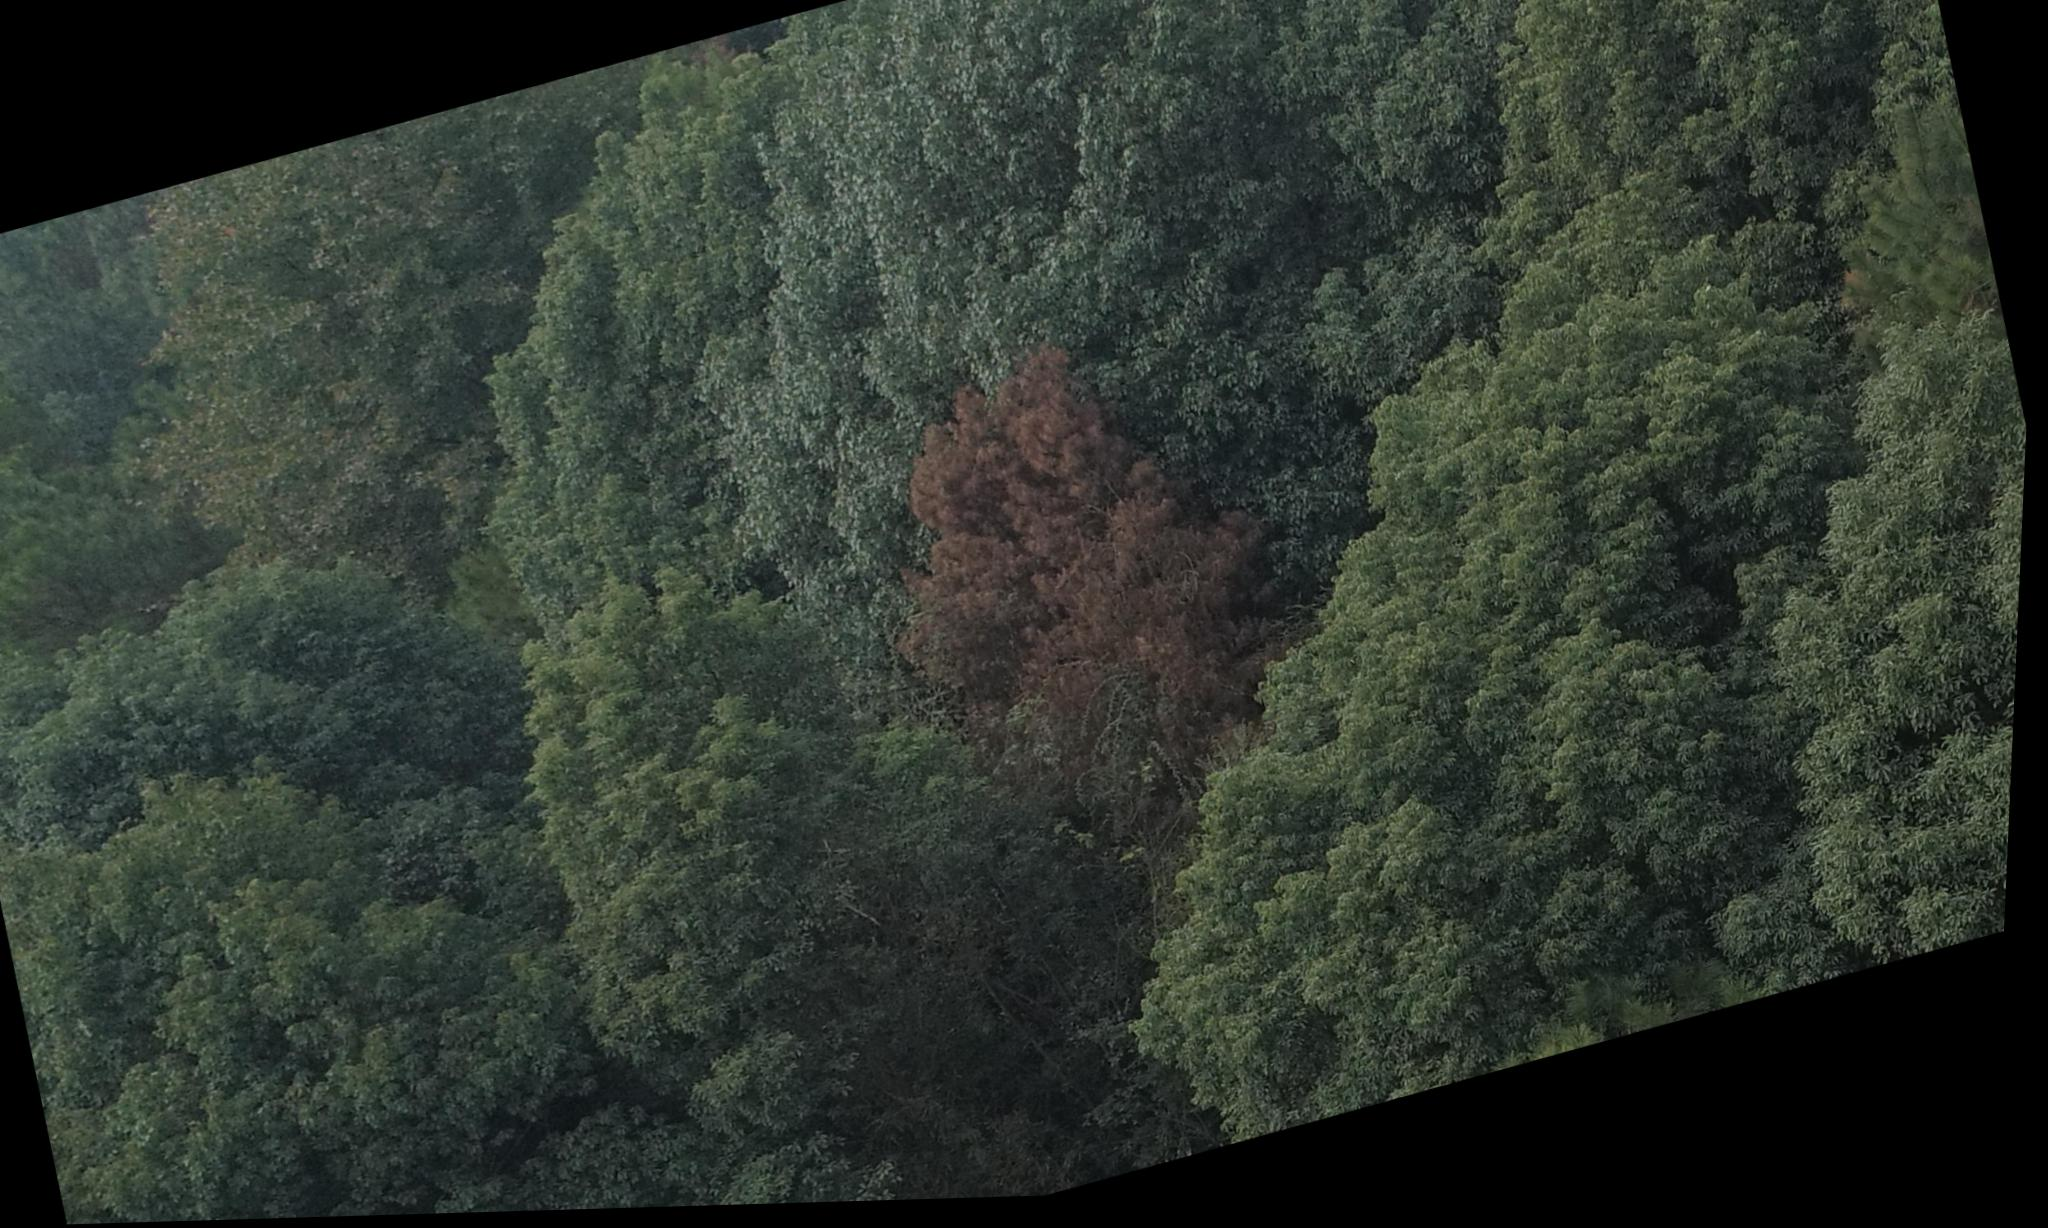heavy: (842, 323, 1288, 820)
